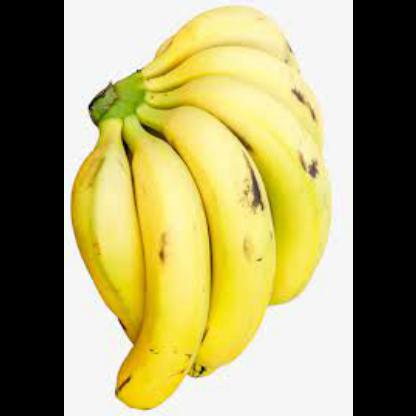banana: (137, 74, 331, 304), (135, 103, 275, 379), (116, 102, 210, 411), (136, 46, 332, 156), (72, 109, 144, 343), (137, 3, 301, 77)
